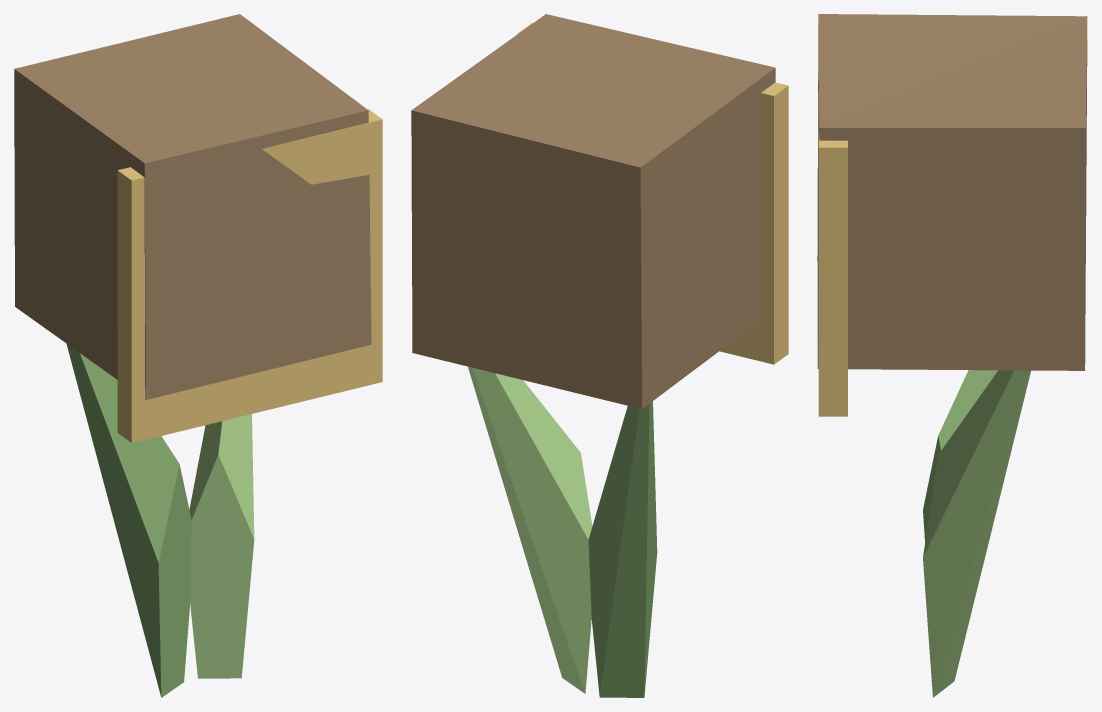
The model's file is Trophy.fbx.
The picture shows the model from 3 angles, left to right: view 1: azimuth 30°, elevation 25°; view 2: azimuth 150°, elevation 25°; view 3: azimuth 270°, elevation 25°; orthographic projection. The views are drawn at different scales.
Parts seen in each view (by area): view 1: fam_wood, fam_gold, fam_gskin_dark, fam_gskin; view 2: fam_wood, fam_gskin, fam_gskin_dark, fam_gold; view 3: fam_wood, fam_gskin, fam_gold, fam_gskin_dark.
Part boxes in pixels (bbox=[...]): fam_wood: bbox=[14, 14, 371, 399]; fam_gold: bbox=[117, 109, 382, 442]; fam_gskin_dark: bbox=[66, 344, 191, 697]; fam_gskin: bbox=[189, 414, 254, 678]; fam_wood: bbox=[411, 14, 775, 408]; fam_gskin: bbox=[468, 366, 592, 693]; fam_gskin_dark: bbox=[588, 401, 657, 697]; fam_gold: bbox=[517, 23, 788, 364]; fam_wood: bbox=[817, 14, 1087, 370]; fam_gskin: bbox=[923, 370, 1030, 697]; fam_gold: bbox=[818, 90, 847, 416]; fam_gskin_dark: bbox=[923, 370, 997, 542].
Size of the model in its own units: 3.89 by 8.78 by 3.54.
